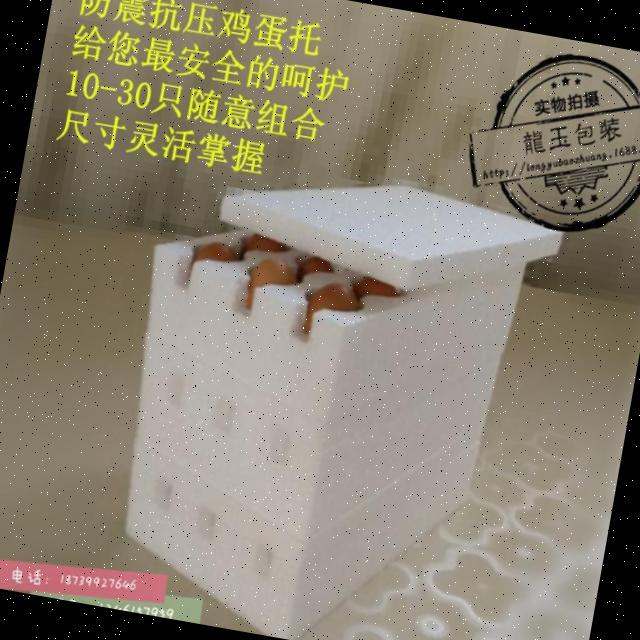styrofoam: (89, 140, 568, 640)
